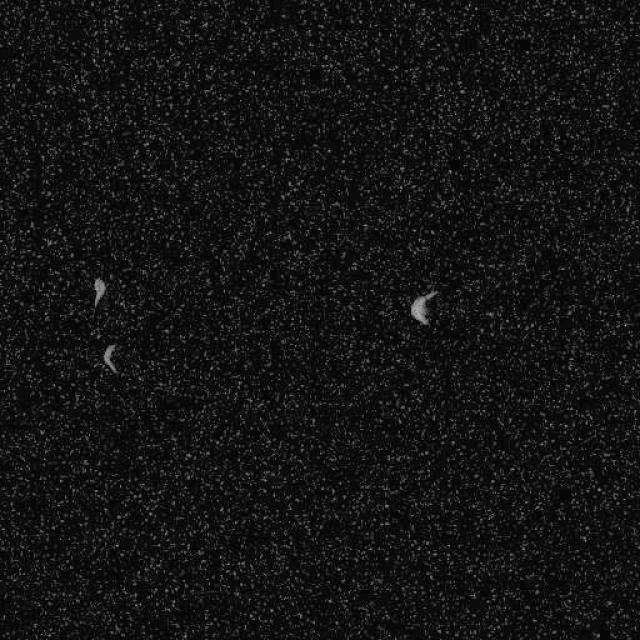D2: (409, 288, 439, 326), (101, 343, 120, 375), (92, 276, 106, 308)
